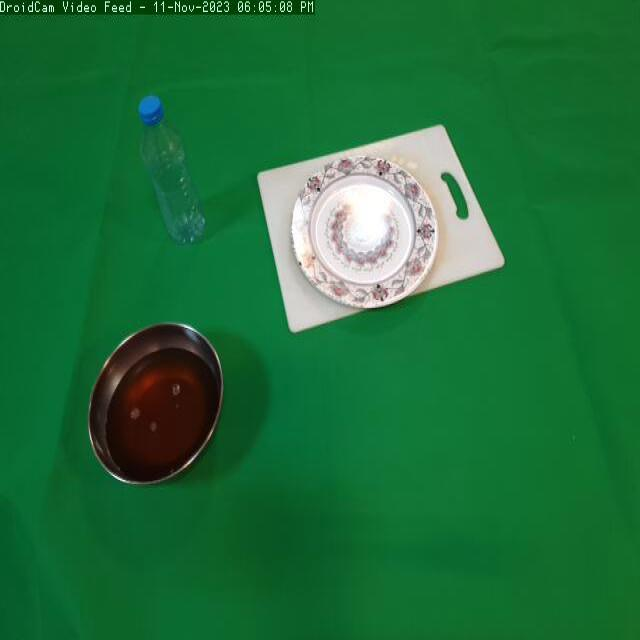bottle: (133, 89, 220, 269)
cutting board: (255, 126, 518, 348)
fullbowl: (79, 316, 229, 497)
plate: (287, 152, 441, 308)
